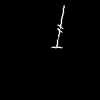treble_crochet: (52, 8, 63, 47)
